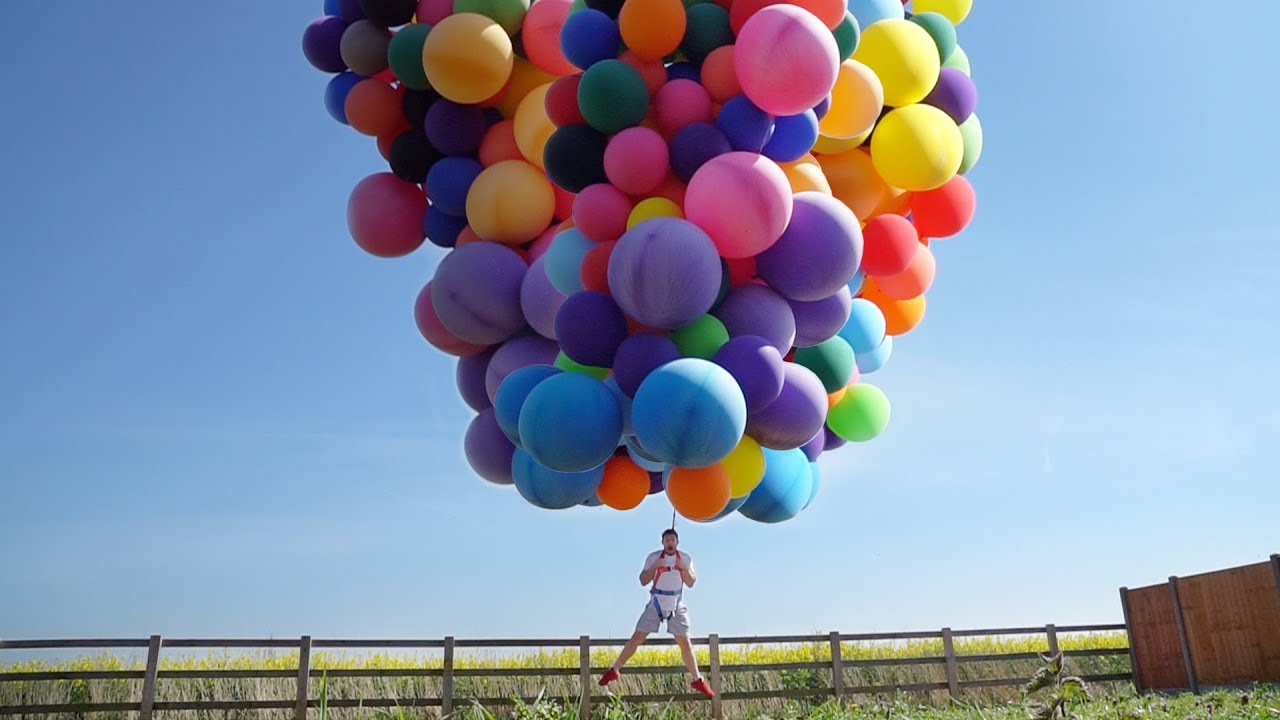Balloon: (629, 358, 747, 467), (734, 3, 840, 110), (682, 151, 793, 253), (762, 193, 865, 298), (517, 372, 623, 473), (430, 240, 526, 343), (422, 13, 514, 104), (873, 105, 962, 192), (465, 159, 556, 244), (347, 172, 430, 256), (553, 290, 625, 367), (581, 59, 651, 130), (602, 127, 671, 194), (618, 1, 687, 61), (829, 383, 891, 443), (667, 465, 731, 519), (344, 78, 400, 135), (426, 99, 482, 156), (864, 215, 918, 274), (572, 186, 628, 240), (719, 97, 772, 151), (340, 19, 390, 74), (656, 80, 712, 128), (600, 458, 650, 509), (301, 16, 342, 75)
